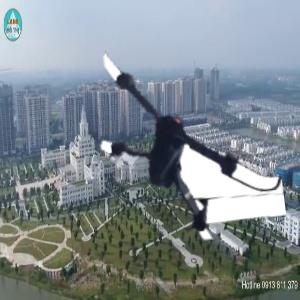drone: (69, 38, 278, 247)
